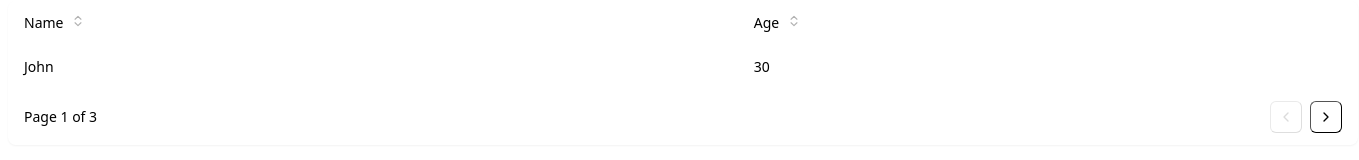
Test: DataGrid Component › Pagination › handles pagination next/prev navigation natively
This screenshot has width=1359, height=160.
Expected: the text "John" is shown, [8, 45, 738, 89]
Click the button named "Next Page".
click(1326, 117)  # box [1310, 101, 1342, 133]
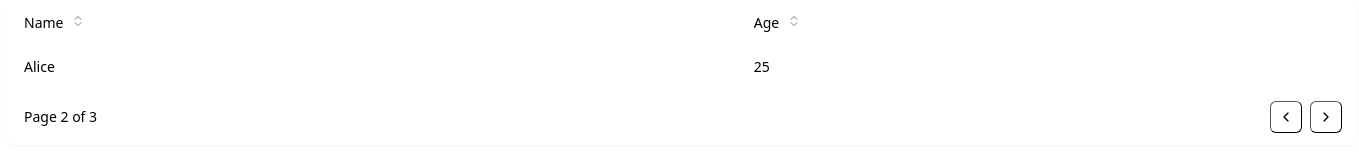
Expected: the text "Alice" is shown, [8, 45, 738, 89]
